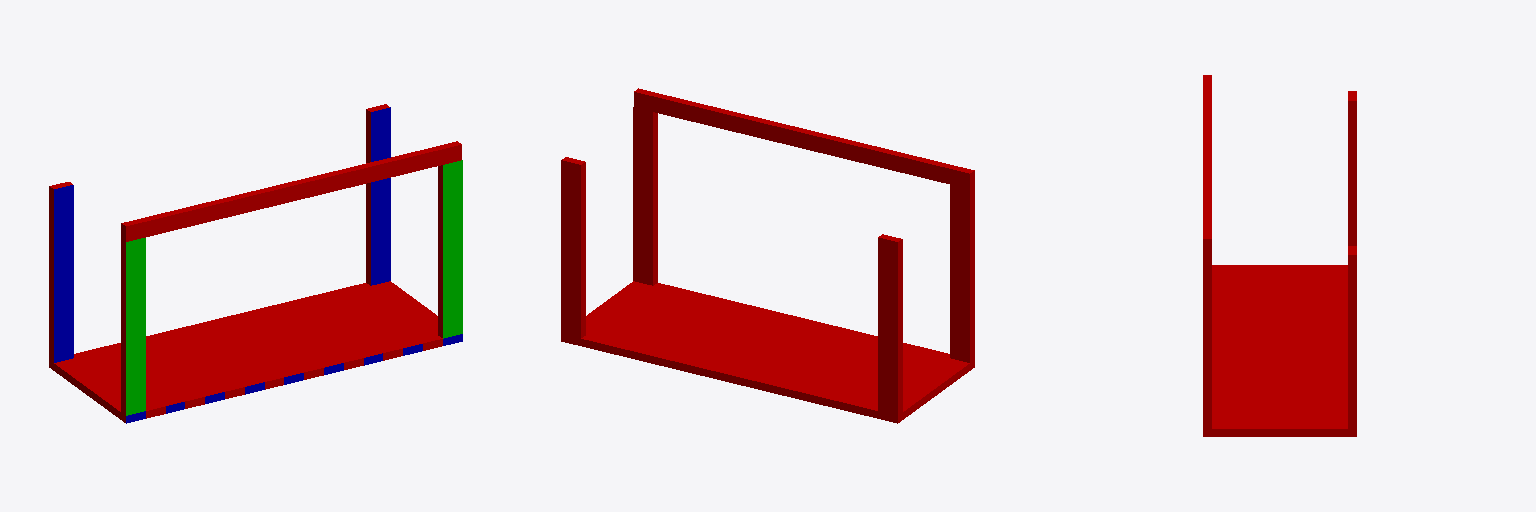
Rendered from Stage_03.obj.
3 views of the same model, side by side, from view 1: azimuth 30°, elevation 25°; view 2: azimuth 150°, elevation 25°; view 3: azimuth 270°, elevation 25° (orthographic).
Visible parts, largest first — view 1: pCube2; view 2: pCube2; view 3: pCube2.
Part boxes in pixels (left/top/right/bottom): pCube2: left=49, top=104, right=462, bottom=423; pCube2: left=561, top=88, right=974, bottom=423; pCube2: left=1203, top=75, right=1356, bottom=436.
Size of the model in its own units: 80.85 by 45.25 by 31.87.